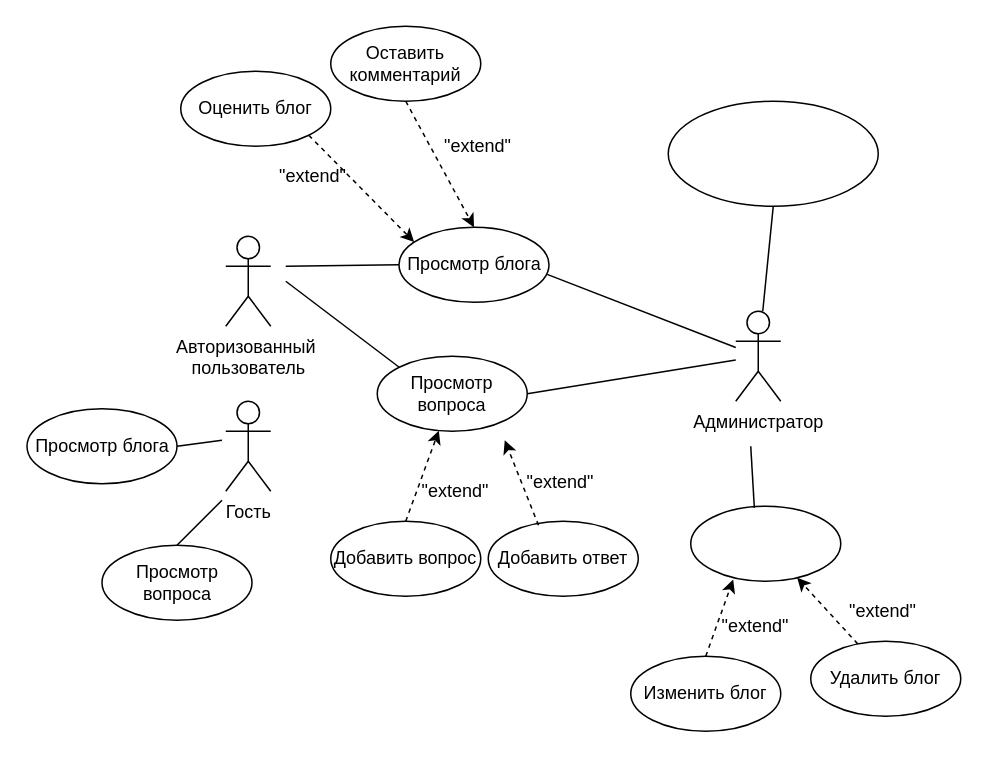
The diagram is 987 pixels wide and 758 high, and some of its shapes have lost their labels. The shapes that lost their labels are listed below. From the top down, each one's centre as x and y in pixels, then its label:
pixel 772 153: Модерация комментариев в блогах, вопросов и ответов
pixel 765 543: Создание блога
